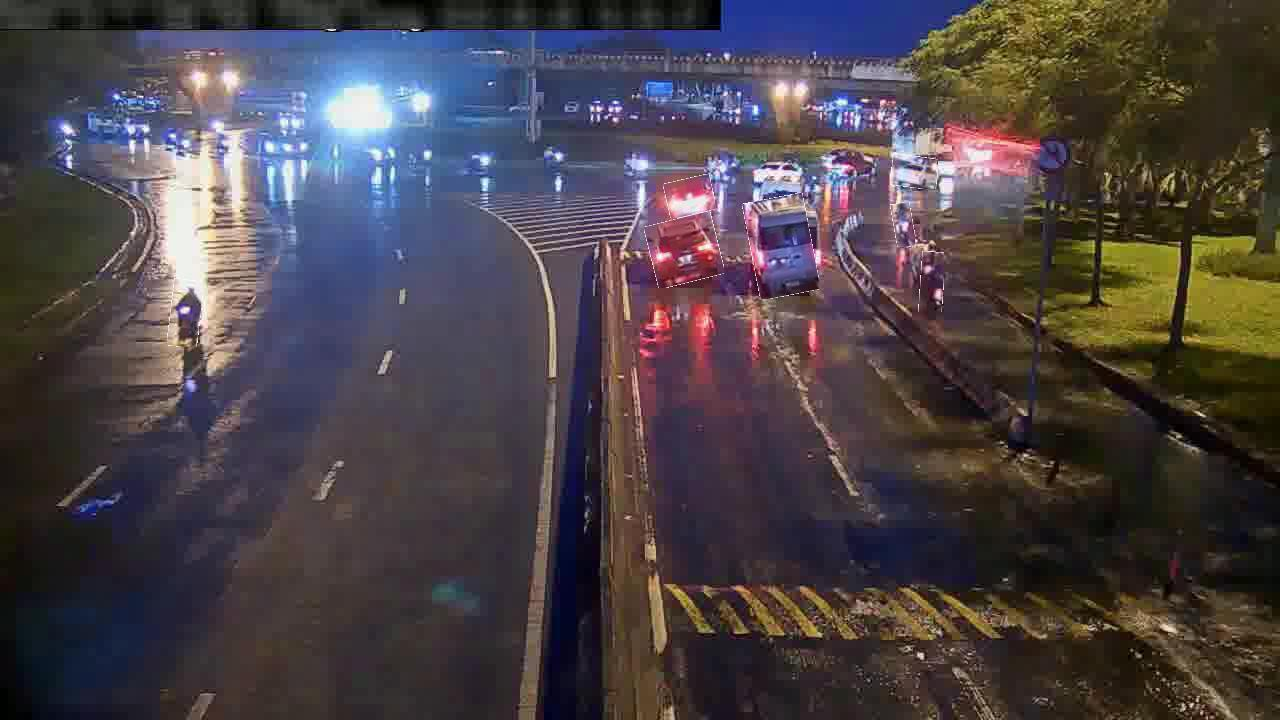14: (747, 196, 816, 298)
container: (648, 214, 722, 286), (665, 177, 715, 217), (891, 155, 939, 189)
motorbike: (169, 279, 203, 348), (919, 252, 944, 313), (892, 202, 915, 248)
